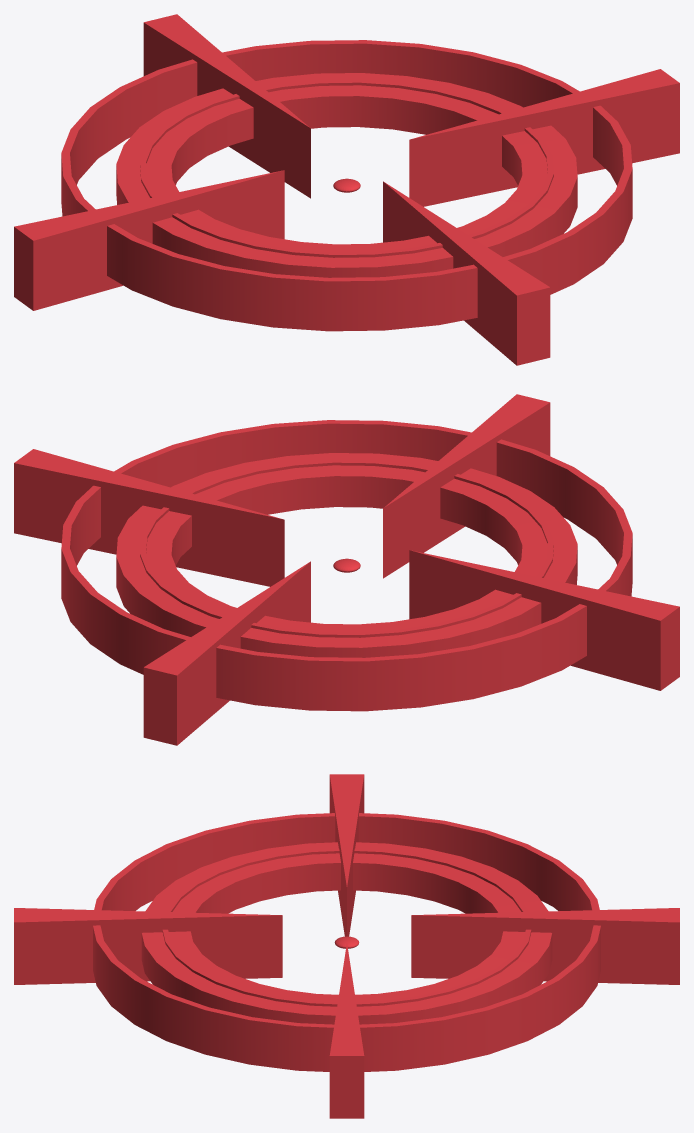
Rendered from CrossHair.fbx.
3 views of the same model, one above another, from view 1: azimuth 30°, elevation 25°; view 2: azimuth 150°, elevation 25°; view 3: azimuth 270°, elevation 25° (orthographic). The views are drawn at different scales.
Visible parts, largest first — view 1: Cylinder.001; view 2: Cylinder.001; view 3: Cylinder.001.
Part boxes in pixels (box(x1,y1,x2,y2)): Cylinder.001: box(14, 14, 679, 365); Cylinder.001: box(14, 394, 679, 745); Cylinder.001: box(14, 774, 679, 1118).
Bounding box in the file's own units: 261 × 261 × 27.07.
